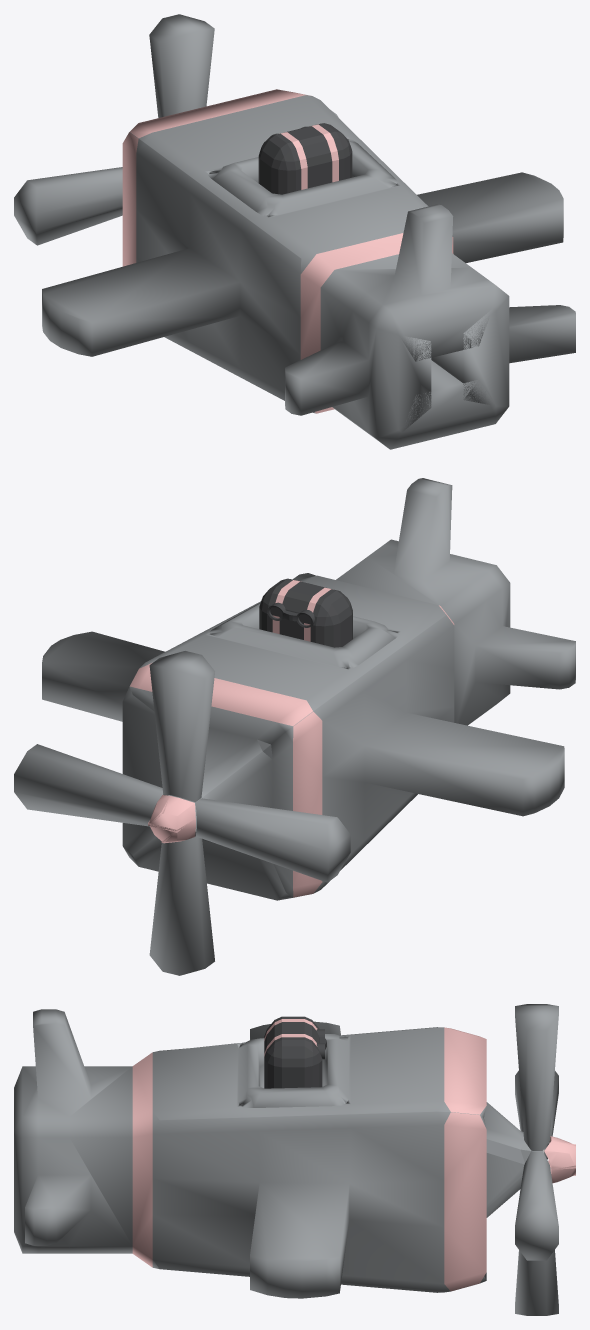
Rendered from pesawatts.glb.
3 renders of one model, top to bottom at view 1: azimuth 30°, elevation 25°; view 2: azimuth 150°, elevation 25°; view 3: azimuth 270°, elevation 25°, orthographic.
Parts seen in each view (by area): view 1: Cube, Cube.001; view 2: Cube, Cube.001; view 3: Cube, Cube.001.
Part boxes in pixels (x1=…): Cube: x1=42, y1=89, x2=575, y2=449; Cube.001: x1=14, y1=14, x2=338, y2=245; Cube: x1=42, y1=478, x2=575, y2=900; Cube.001: x1=14, y1=651, x2=350, y2=975; Cube: x1=14, y1=1009, x2=575, y2=1298; Cube.001: x1=515, y1=1004, x2=558, y2=1315.
Bounding box in the file's own units: 6.55 × 3.81 × 6.48.
